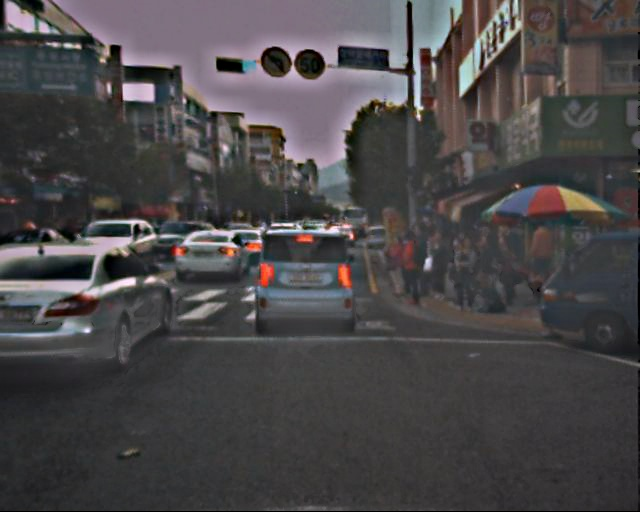person: (398, 230, 429, 305), (524, 217, 553, 288), (450, 239, 478, 308), (493, 236, 521, 304), (424, 231, 451, 297), (495, 220, 520, 282), (473, 218, 497, 277), (386, 236, 410, 294), (474, 238, 496, 292)
